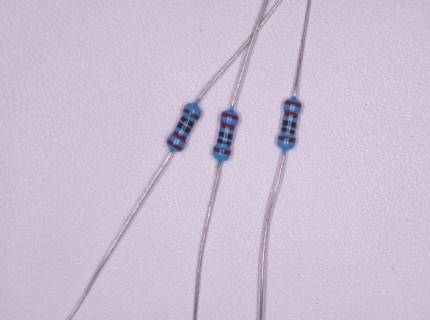Black band: (176, 121, 192, 135), (180, 115, 195, 128), (282, 119, 297, 129), (217, 137, 231, 147), (218, 131, 233, 140), (281, 127, 296, 135)
Brown band: (182, 107, 200, 121), (213, 147, 231, 156), (278, 135, 295, 143)
Red band: (167, 139, 183, 151), (172, 131, 187, 143), (221, 112, 239, 120), (221, 121, 235, 130), (284, 101, 301, 108), (284, 110, 298, 118)
